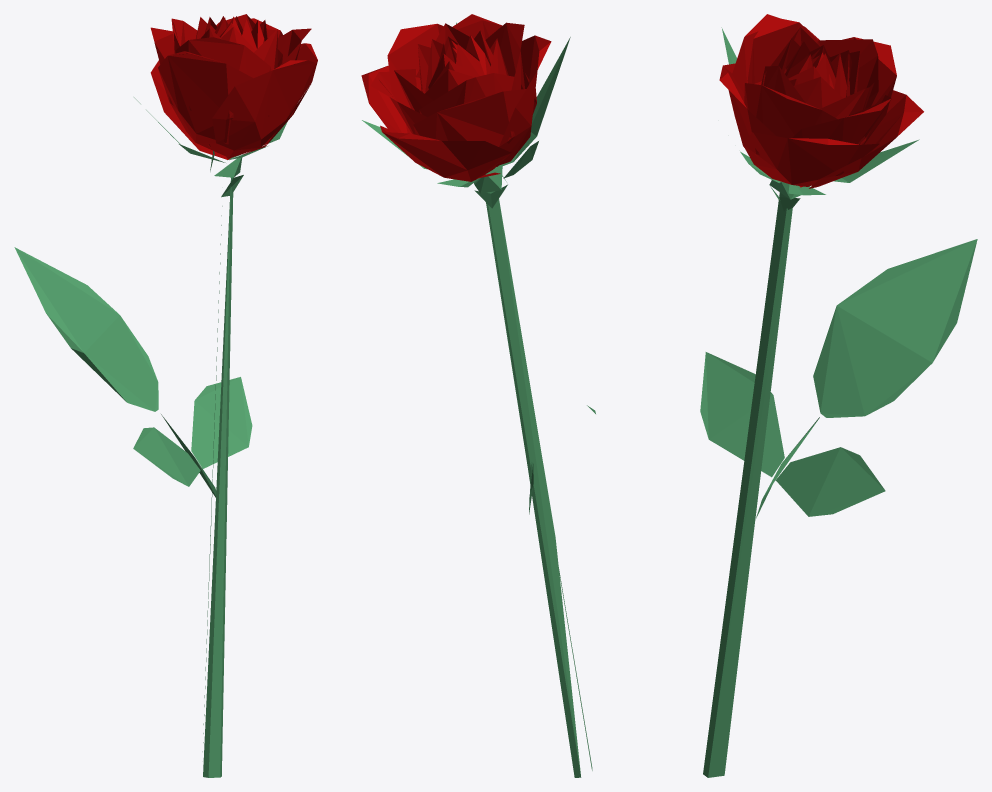
Rendered from Rose.glb.
3 renders of one model, left to right at view 1: azimuth 30°, elevation 25°; view 2: azimuth 150°, elevation 25°; view 3: azimuth 270°, elevation 25°, orthographic. The views are drawn at different scales.
Parts seen in each view (by area): view 1: Object002, Object003; view 2: Object002; view 3: Object002, Object003.
Part boxes in pixels (box(x1,y1,x2,y2)): Object002: box(134, 14, 317, 777); Object003: box(14, 247, 252, 497); Object002: box(361, 14, 592, 777); Object002: box(703, 14, 923, 777); Object003: box(700, 239, 977, 518).
Bounding box in the file's own units: 160 × 461 × 150.
